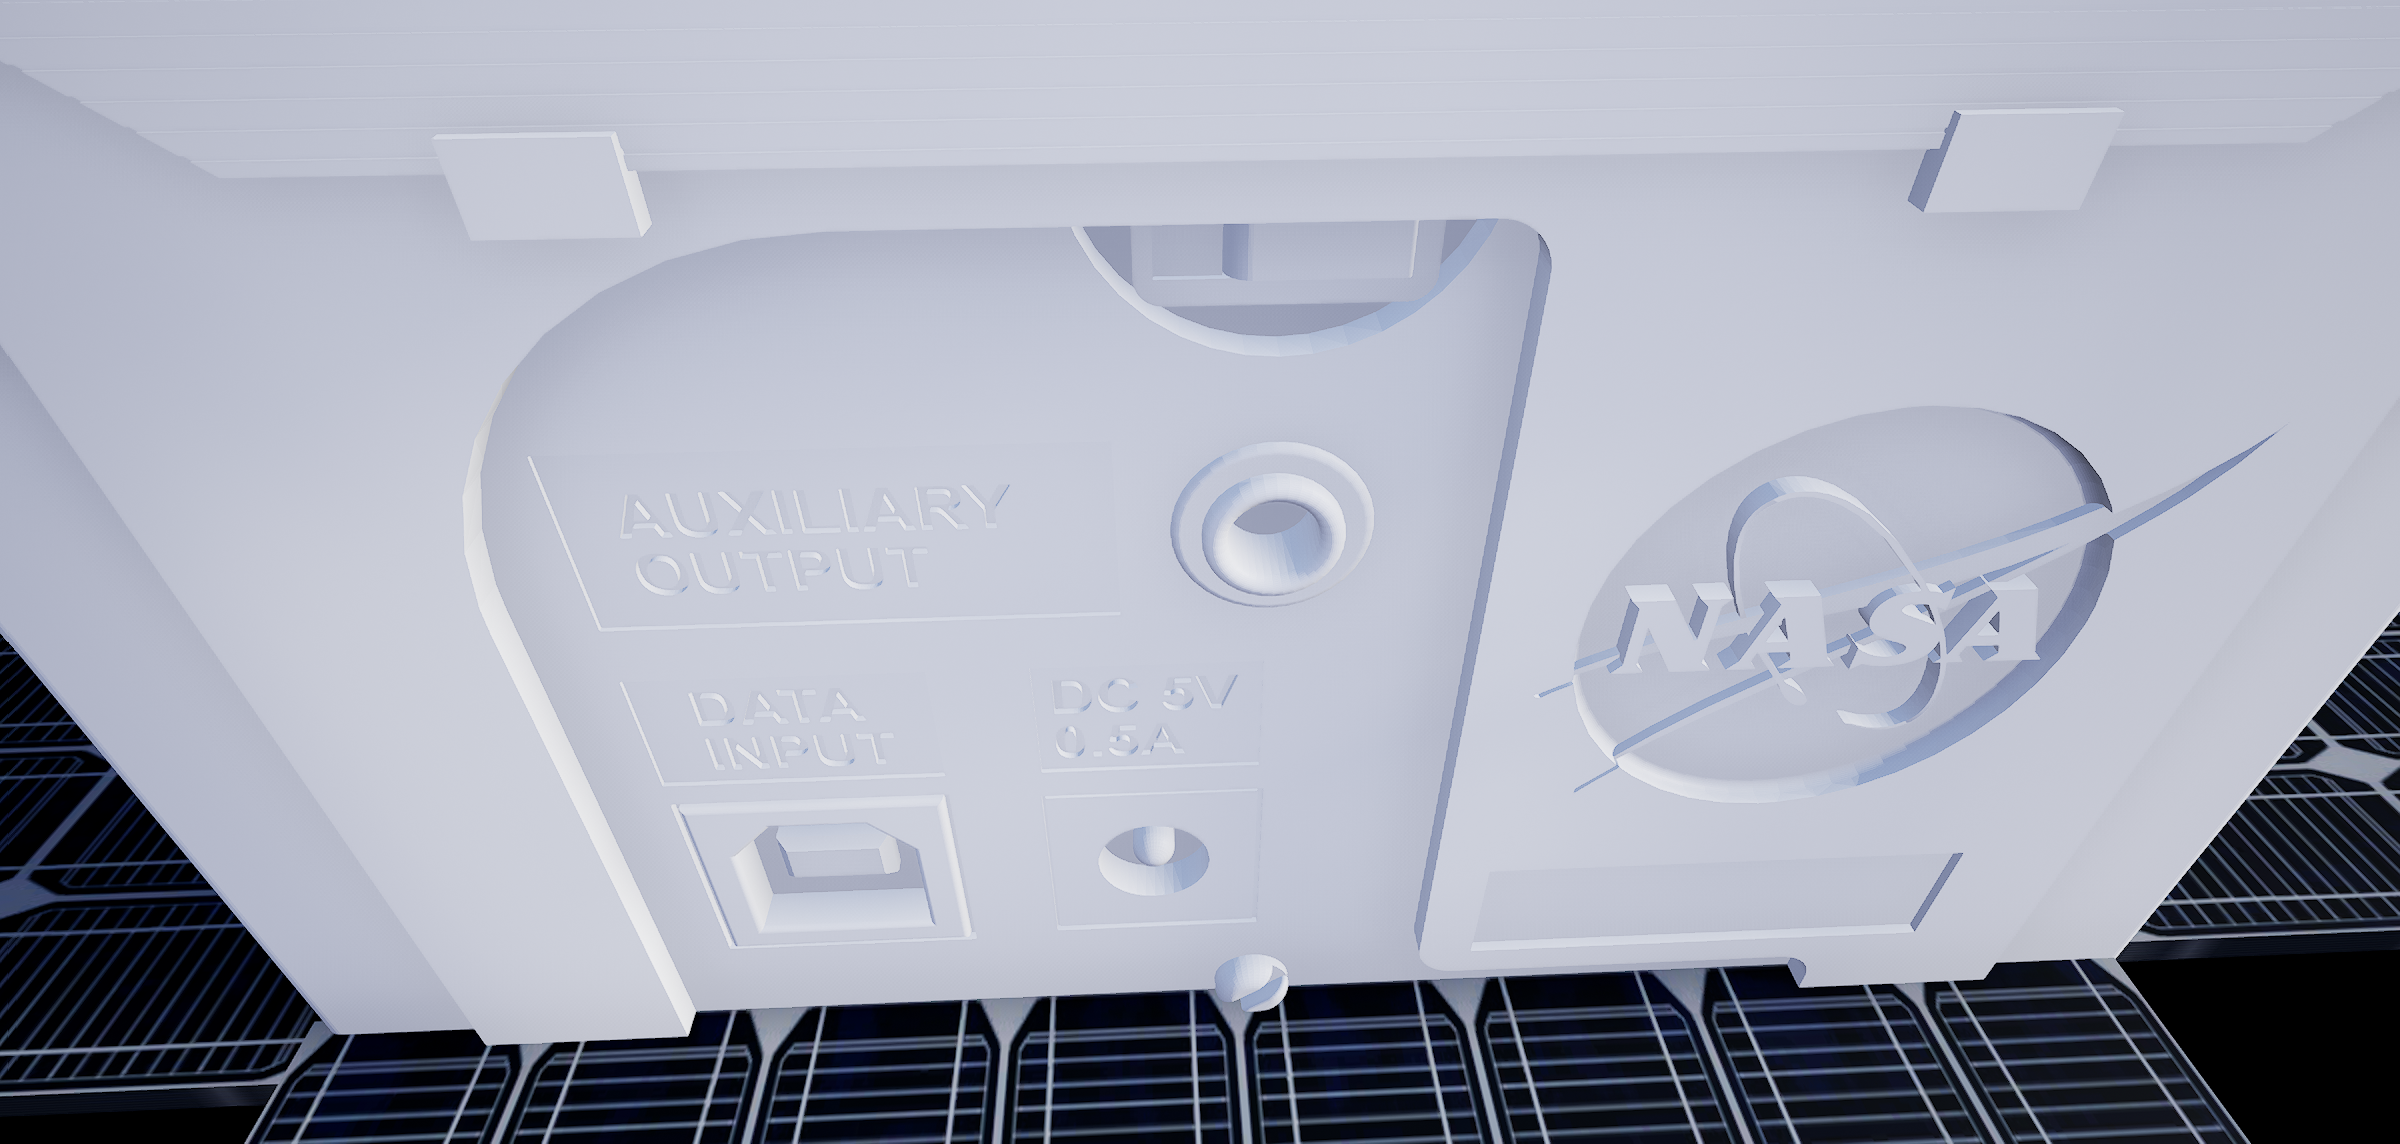aux: (1153, 423, 1399, 617)
dc: (1085, 821, 1218, 897)
usb: (727, 813, 941, 936)
